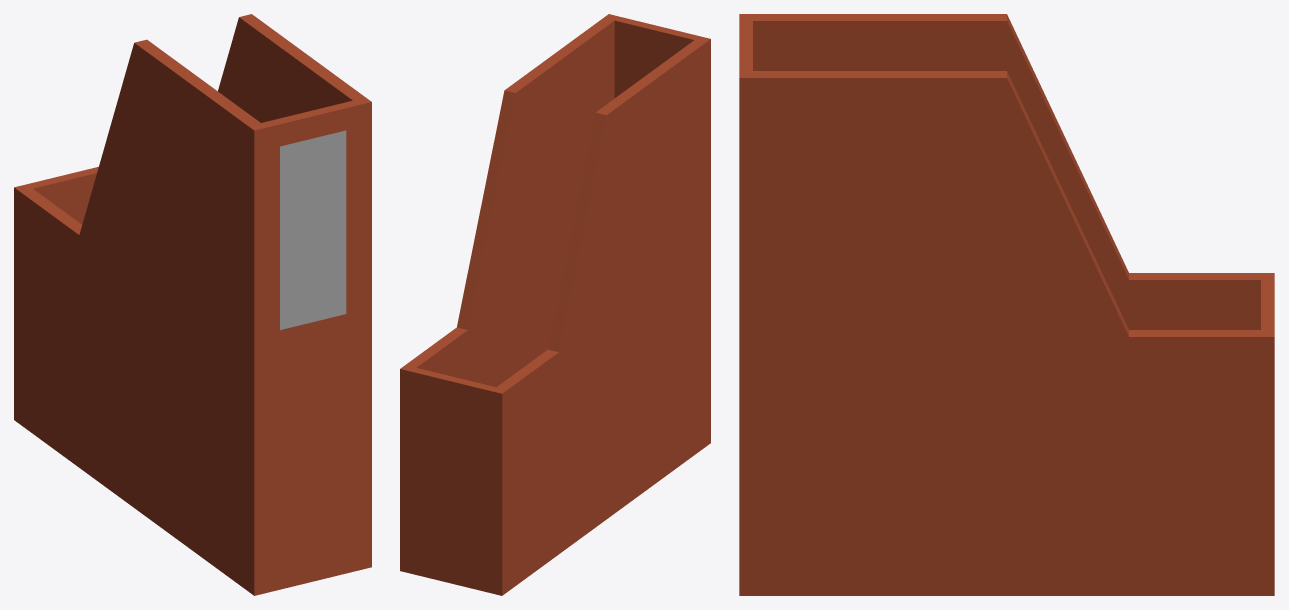
Rendered from FileHolderV2Orange.fbx.
3 views of the same model, side by side, from view 1: azimuth 30°, elevation 25°; view 2: azimuth 150°, elevation 25°; view 3: azimuth 270°, elevation 25° (orthographic). The views are drawn at different scales.
Parts seen in each view (by area): view 1: FileHolderV2Orange; view 2: FileHolderV2Orange; view 3: FileHolderV2Orange.
Boxes of the visible parts, x1,y1,x2,y2 form: FileHolderV2Orange: (14, 14, 371, 595); FileHolderV2Orange: (400, 14, 710, 595); FileHolderV2Orange: (739, 14, 1274, 595).
Size of the model in its own units: 7.39 by 27.94 by 26.15.
